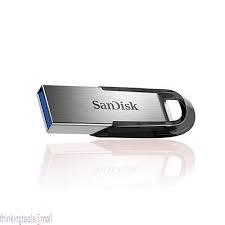Flash-drive: (21, 57, 209, 180)
